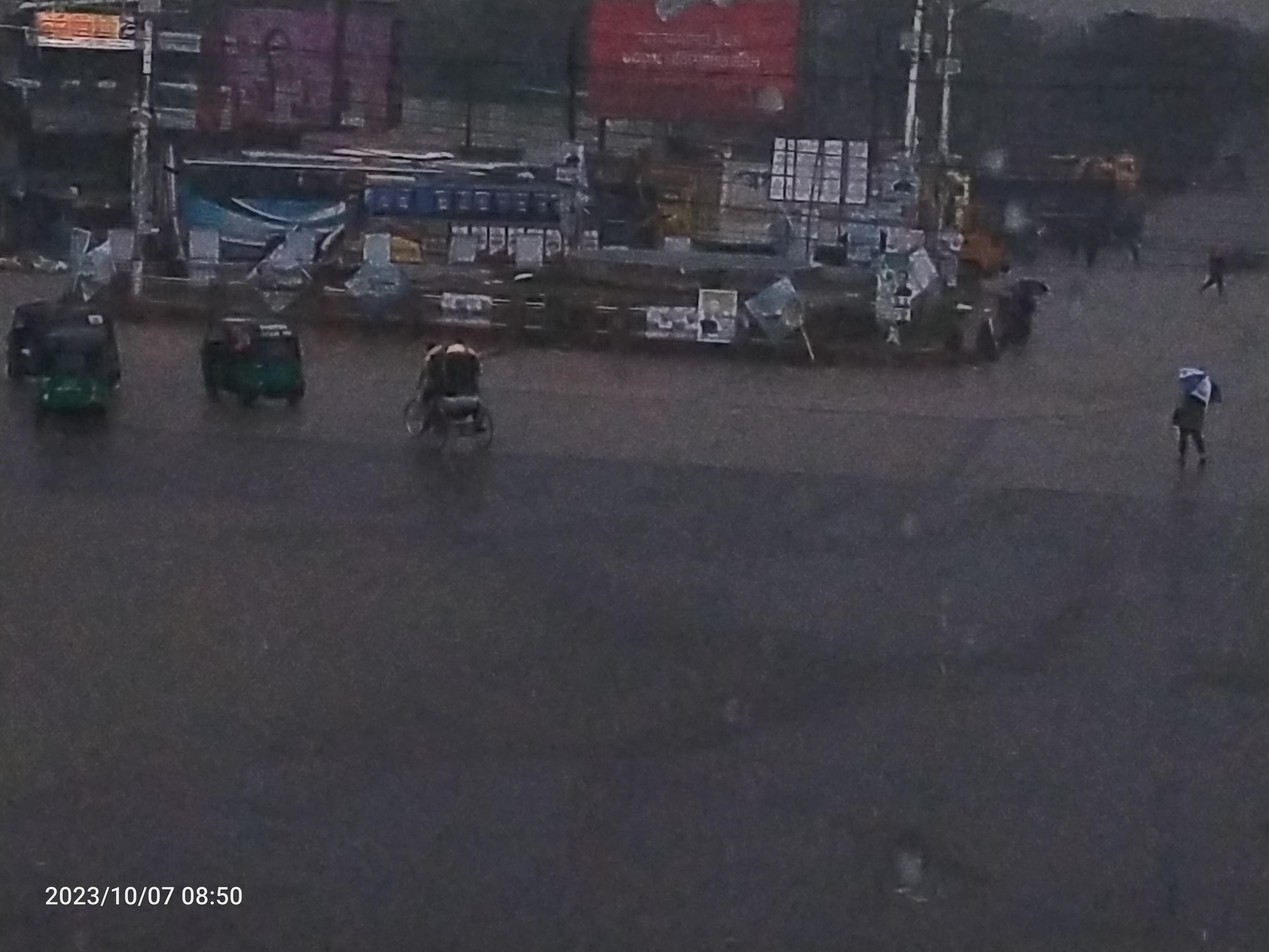Bus: (137, 121, 477, 315), (326, 157, 609, 307)
Car: (385, 321, 520, 483)
